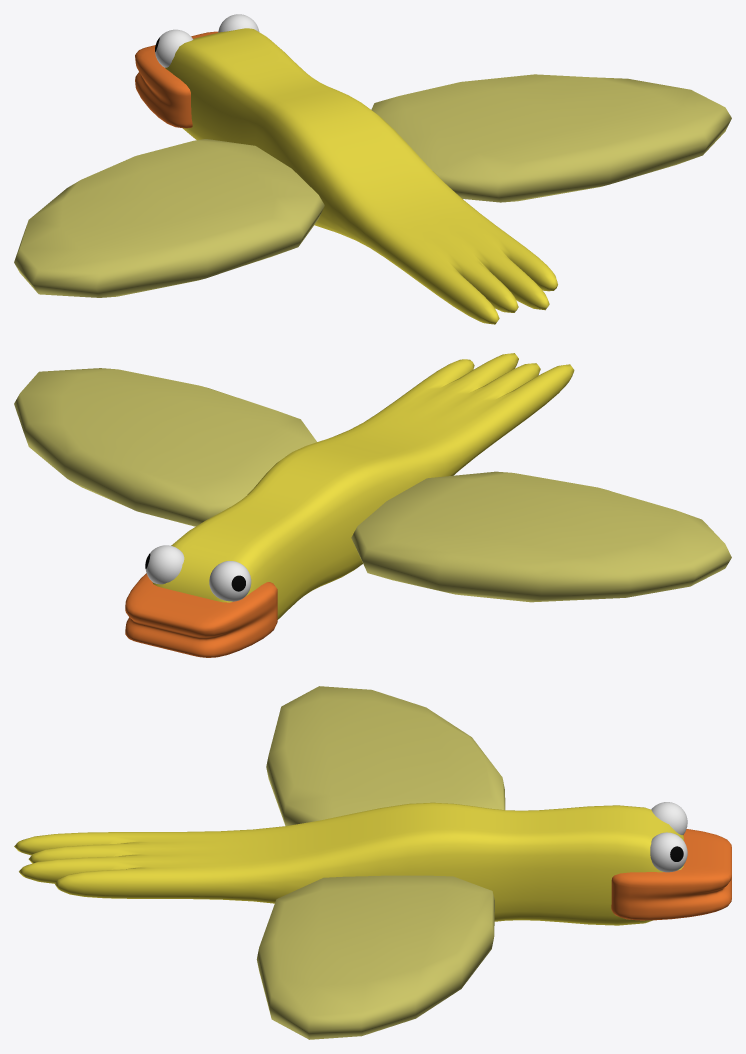
The model's file is RealisticFlappy.fbx.
The picture shows the model from 3 angles, top to bottom: view 1: azimuth 30°, elevation 25°; view 2: azimuth 150°, elevation 25°; view 3: azimuth 270°, elevation 25°; orthographic projection. The views are drawn at different scales.
Parts seen in each view (by area): view 1: Realistic FLappy Body, Wing2.002, Wing1.002, Pupils.002; view 2: Realistic FLappy Body, Wing2.002, Wing1.002, Pupils.002; view 3: Realistic FLappy Body, Wing1.002, Wing2.002, Pupils.002.
Boxes of the visible parts, box(x1,y1,x2,y2) form: Realistic FLappy Body: box(135, 28, 557, 324); Wing2.002: box(14, 139, 324, 297); Wing1.002: box(371, 74, 731, 202); Pupils.002: box(155, 14, 259, 67); Realistic FLappy Body: box(125, 353, 574, 657); Wing2.002: box(351, 471, 731, 602); Wing1.002: box(14, 368, 316, 526); Pupils.002: box(145, 545, 251, 601); Realistic FLappy Body: box(14, 802, 731, 925); Wing1.002: box(256, 875, 494, 1039); Wing2.002: box(266, 686, 505, 825); Pupils.002: box(650, 802, 687, 872).
Bounding box in the file's own units: 1326 × 1198 × 175.
